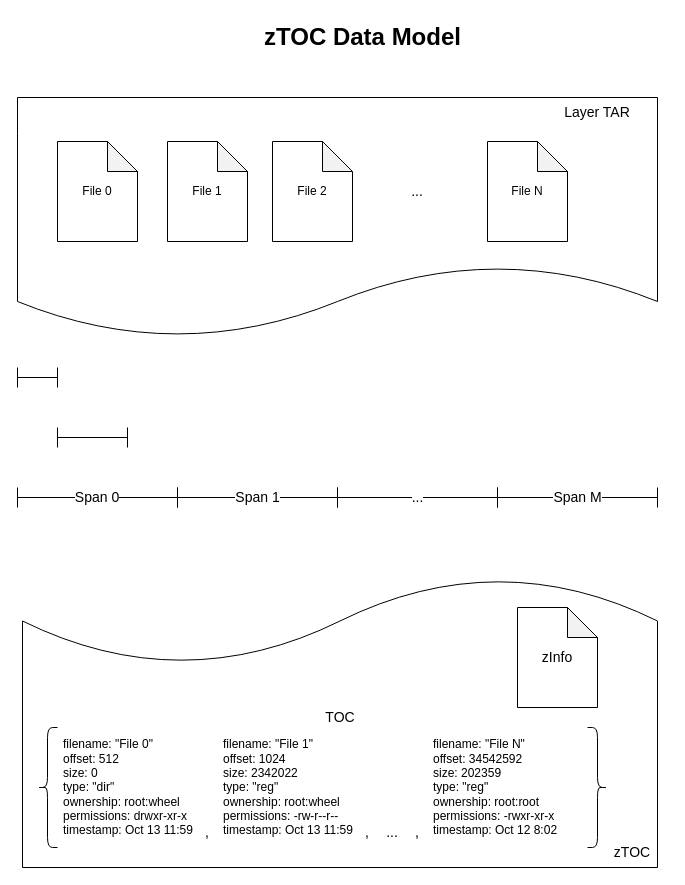
The diagram is 685 pixels wide and 885 high, and some of its shapes have lost their labels. Here are the shapes that lost their labels. From the top down, the centre of each, then its label:
the point at 37,377: offset
the point at 92,437: size
